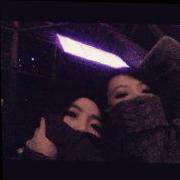OK: (107, 78, 164, 134)
WRONG: (58, 102, 105, 156)
